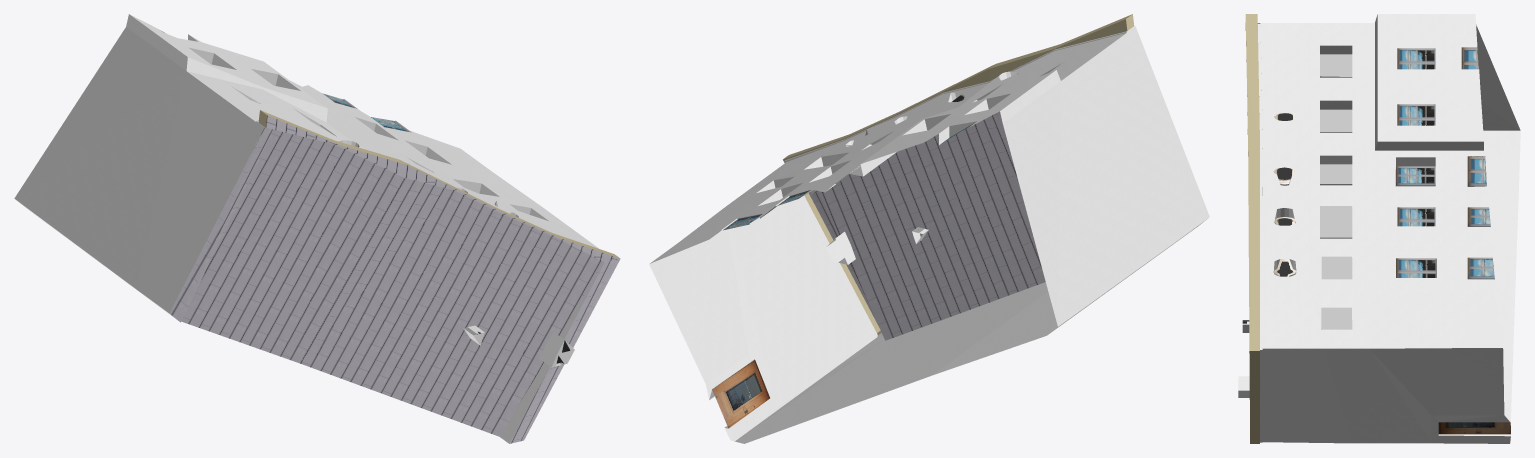
File: Ryytli_26-origo.obj
The picture shows the model from 3 angles, left to right: view 1: azimuth 30°, elevation 25°; view 2: azimuth 150°, elevation 25°; view 3: azimuth 270°, elevation 25°; orthographic projection. The views are drawn at different scales.
Visible parts, largest first — view 1: Ryytli_26; view 2: Ryytli_26; view 3: Ryytli_26.
Boxes of the visible parts, <box> form: Ryytli_26: <box>14,14,620,443</box>; Ryytli_26: <box>649,14,1209,443</box>; Ryytli_26: <box>1238,14,1520,443</box>.
Size of the model in its own units: 19.06 by 16 by 12.61.
